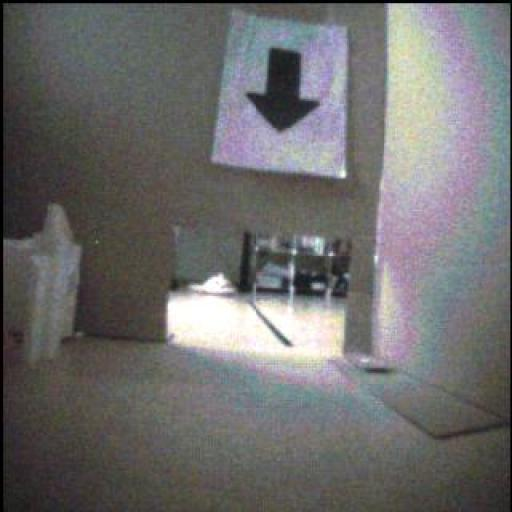arrow: (247, 49, 321, 132)
